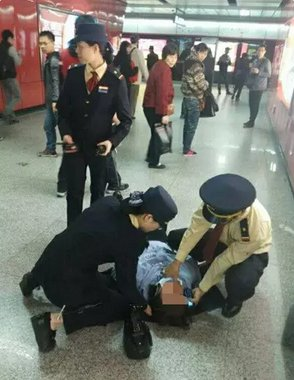10+: (1, 21, 285, 363)
down: (127, 239, 202, 324)
